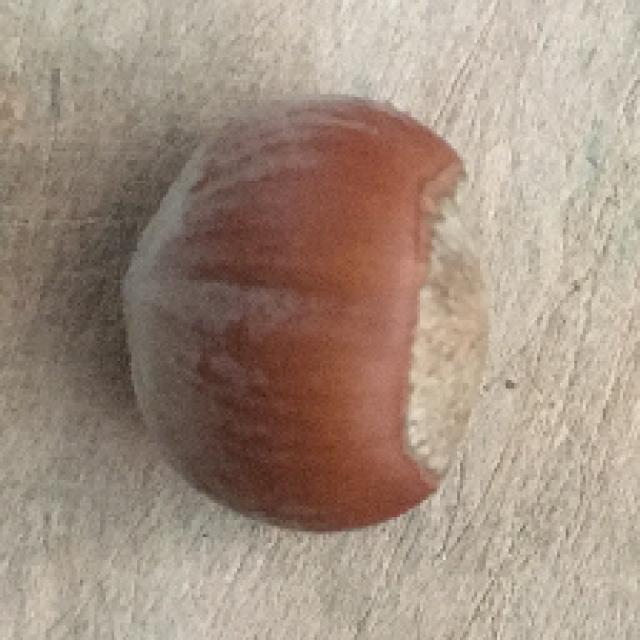QualityHazelnut: (119, 92, 497, 534)
